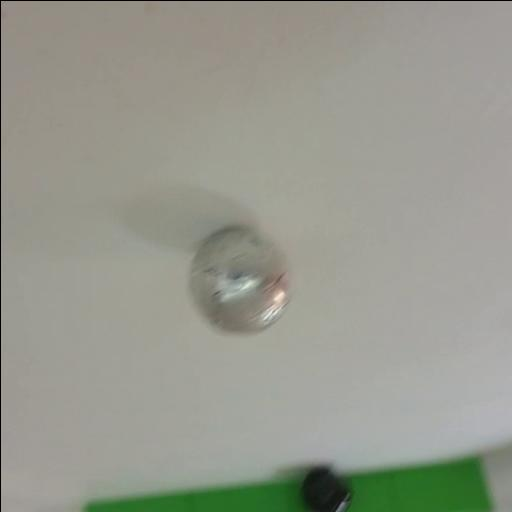alive: (183, 224, 295, 338)
dead: (299, 466, 354, 512)
